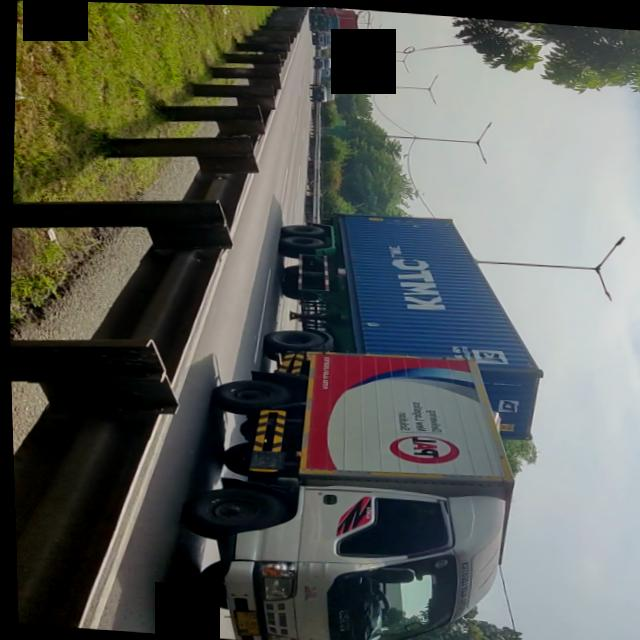Golongan II: (167, 339, 475, 640)
